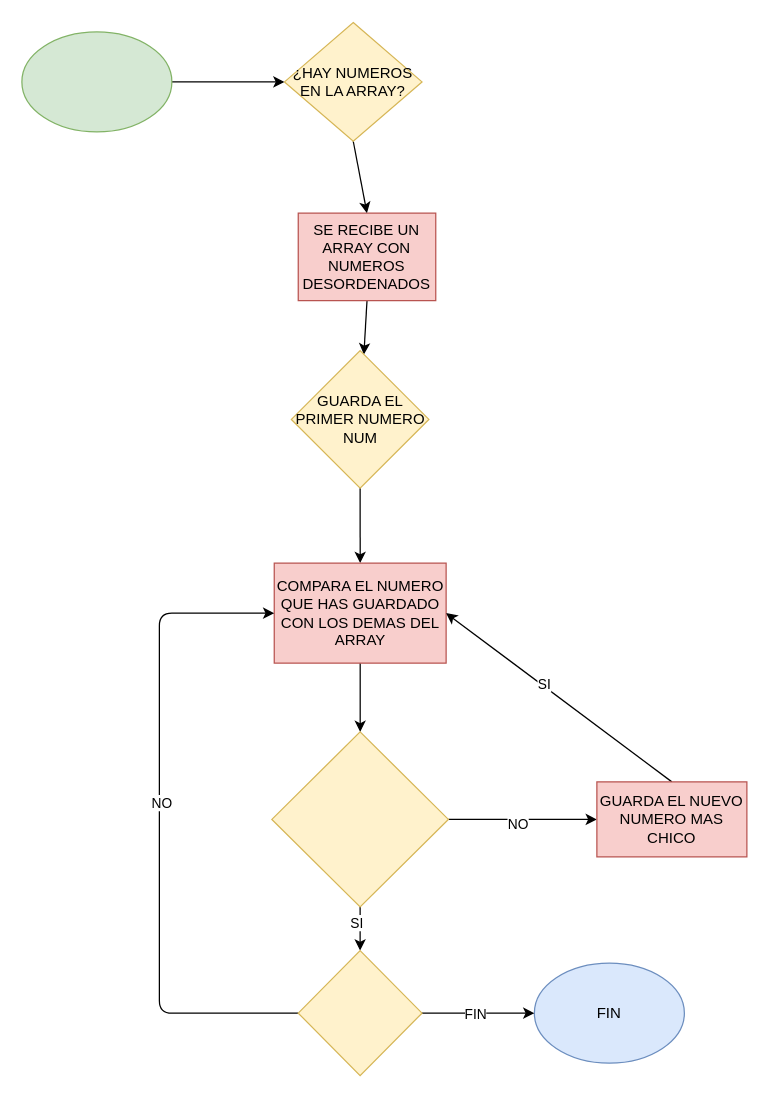
This 769x1098 diagram has some shape labels left out. The box of each missing label's shape, as (x1, y1, x2, y2) in pixels:
INICIO: (21, 31, 172, 132)
¿EL NUMERO GUARDADO ES MAS CHICO QUE EL SIGUIENTE DIGITO DEL ARRAY?: (271, 731, 448, 907)
¿HAS RECORRIDO TODO EL ARRAY?: (297, 949, 422, 1076)
